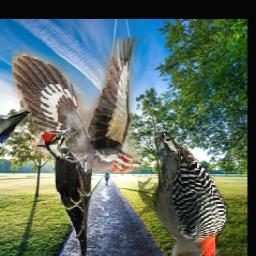Swallow: (0, 111, 30, 154)
Woodpecker: (13, 37, 142, 173), (139, 132, 230, 256), (41, 125, 93, 256)
